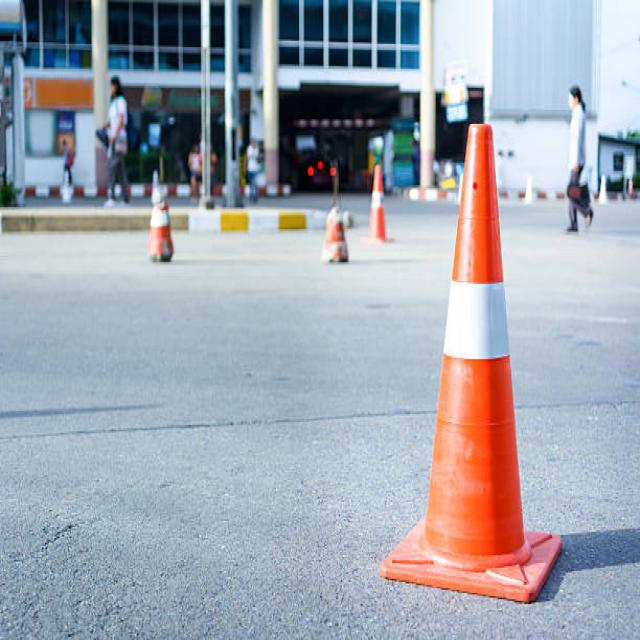Traffic Cone: (371, 94, 578, 626)
